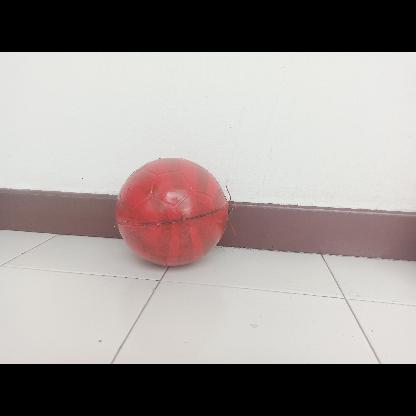red_ball: (116, 155, 226, 264)
